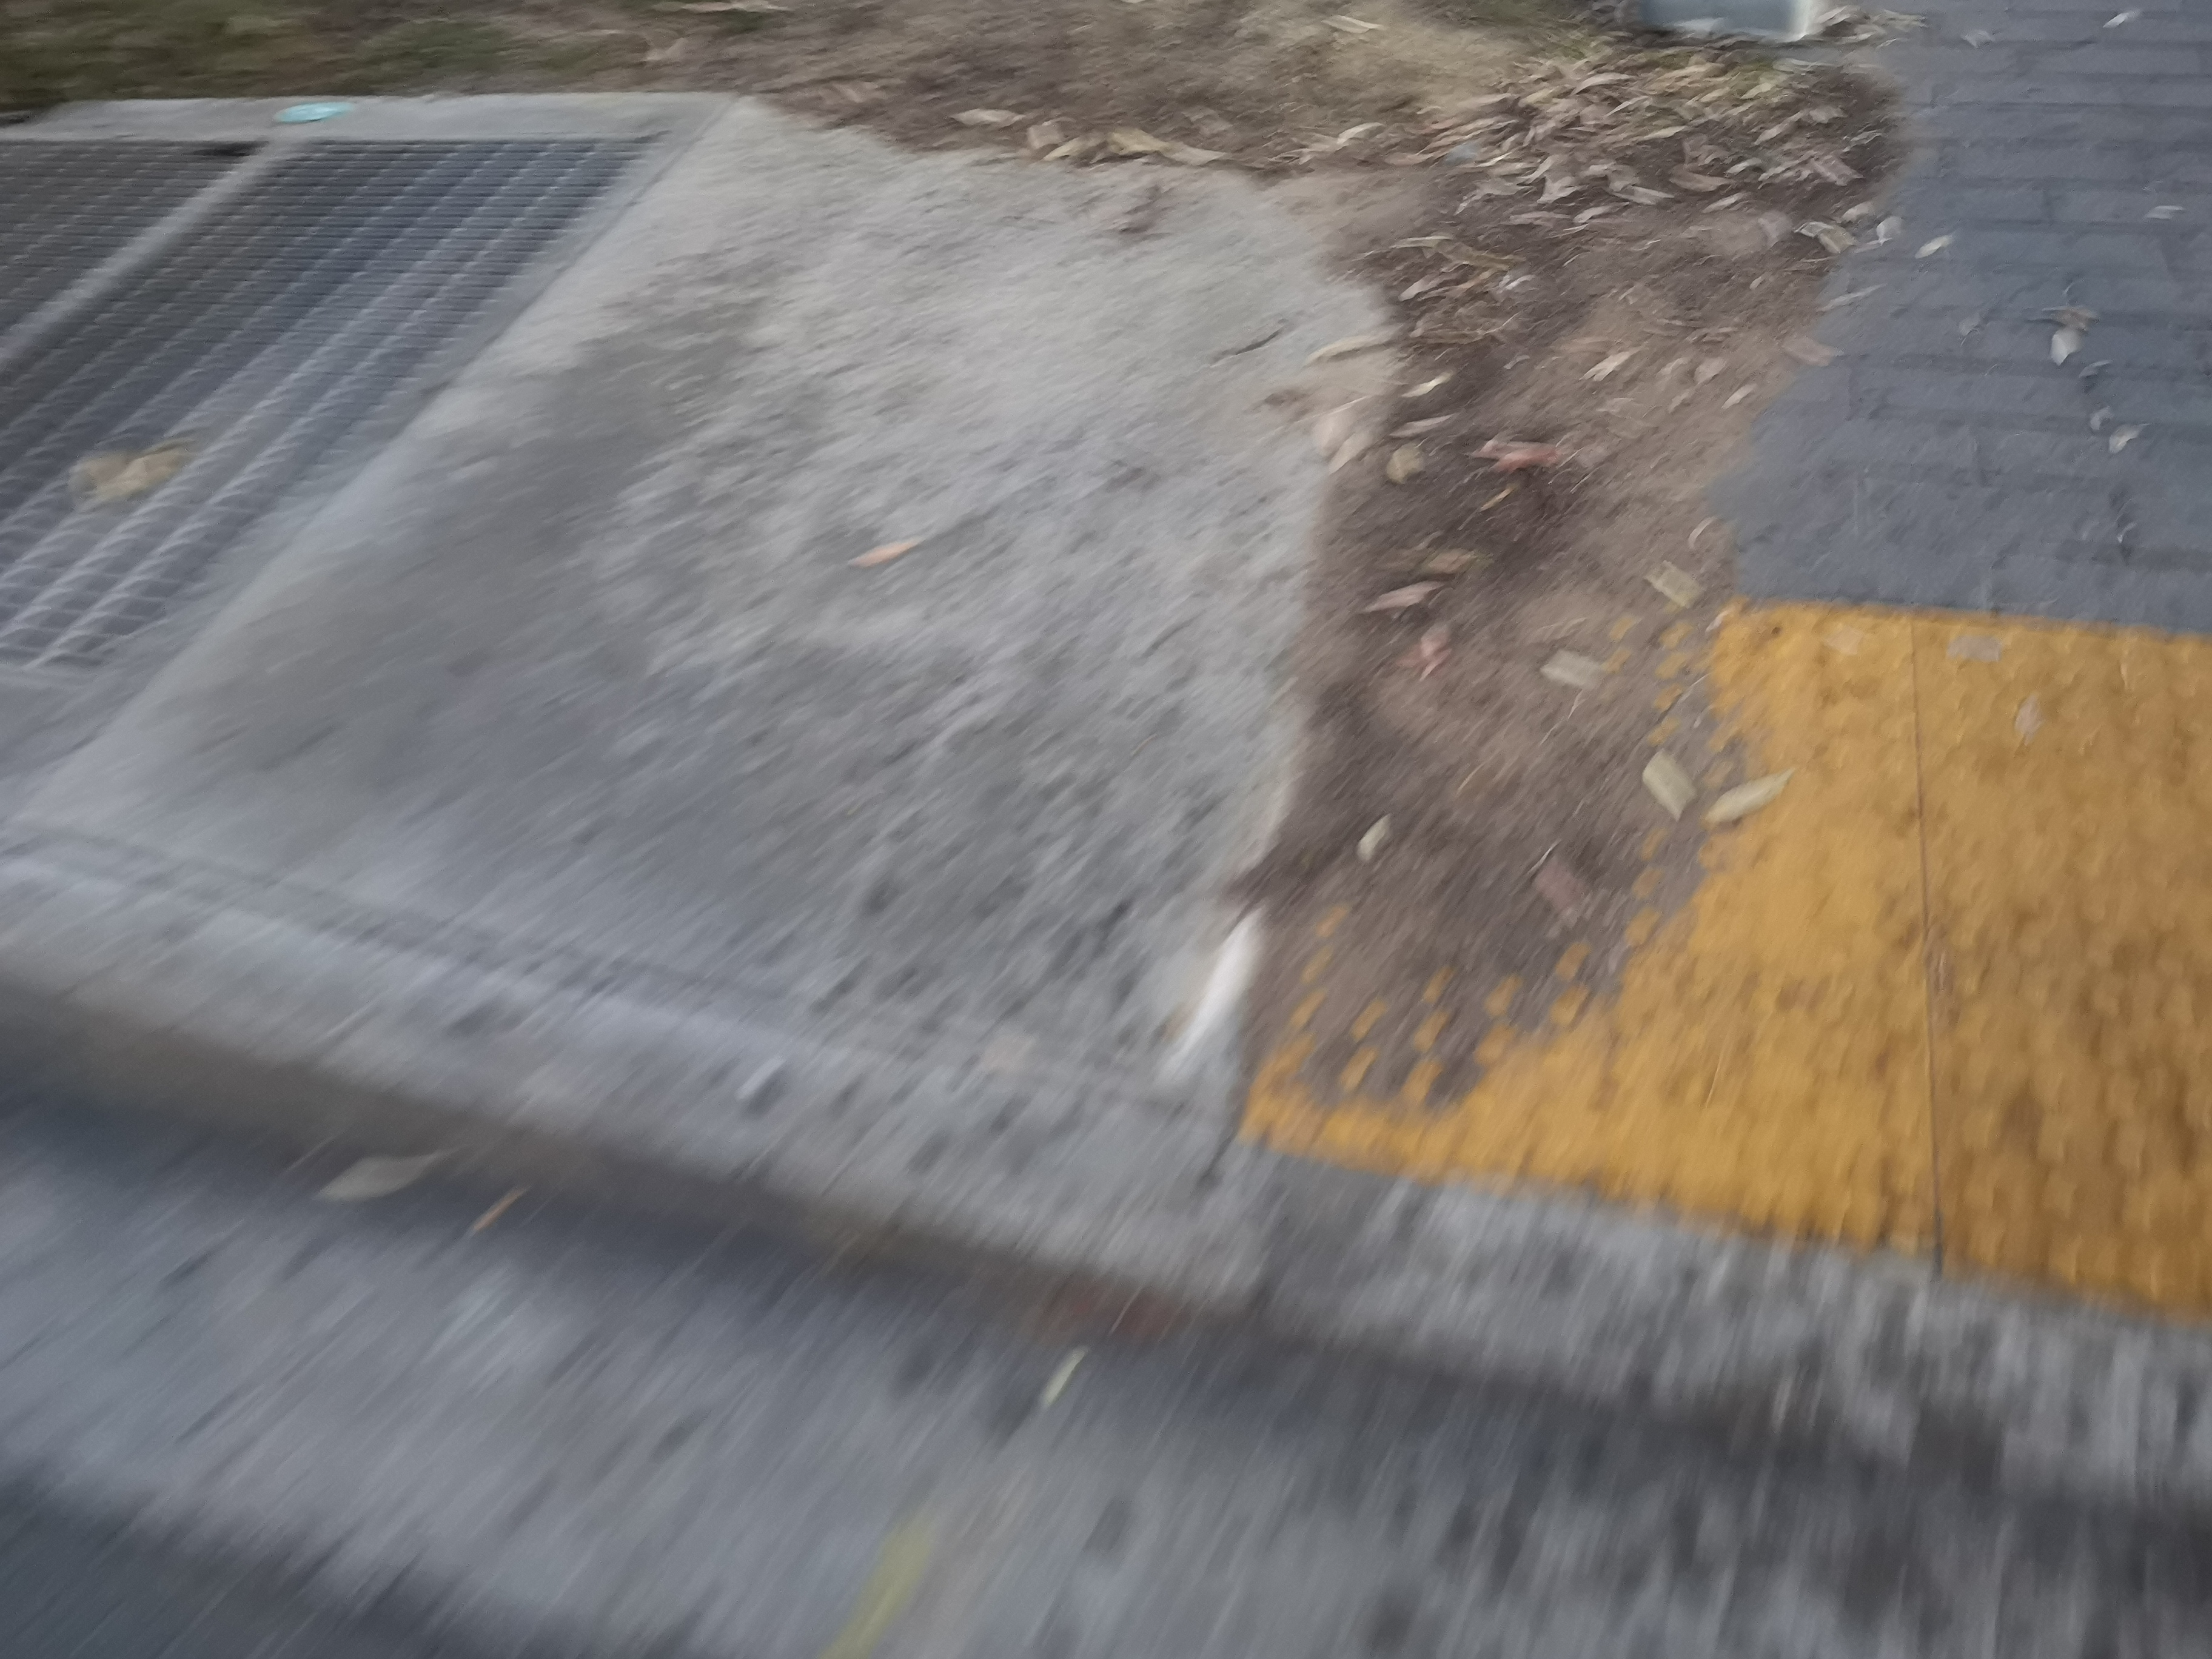Uplift: (16, 810, 2205, 1556)
